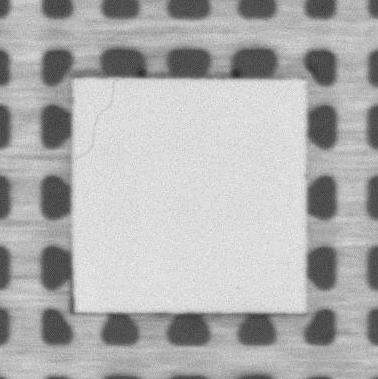DIE_CRACK: (71, 80, 116, 162)
